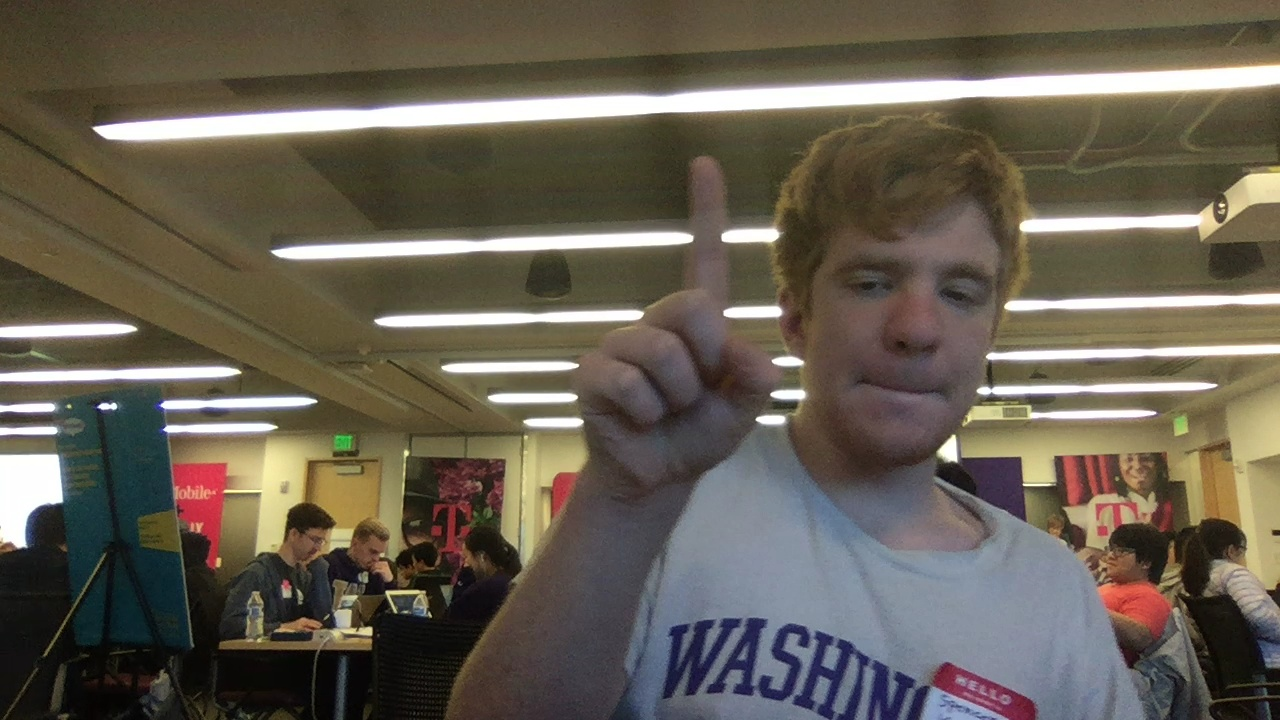index: (571, 156, 779, 493)
